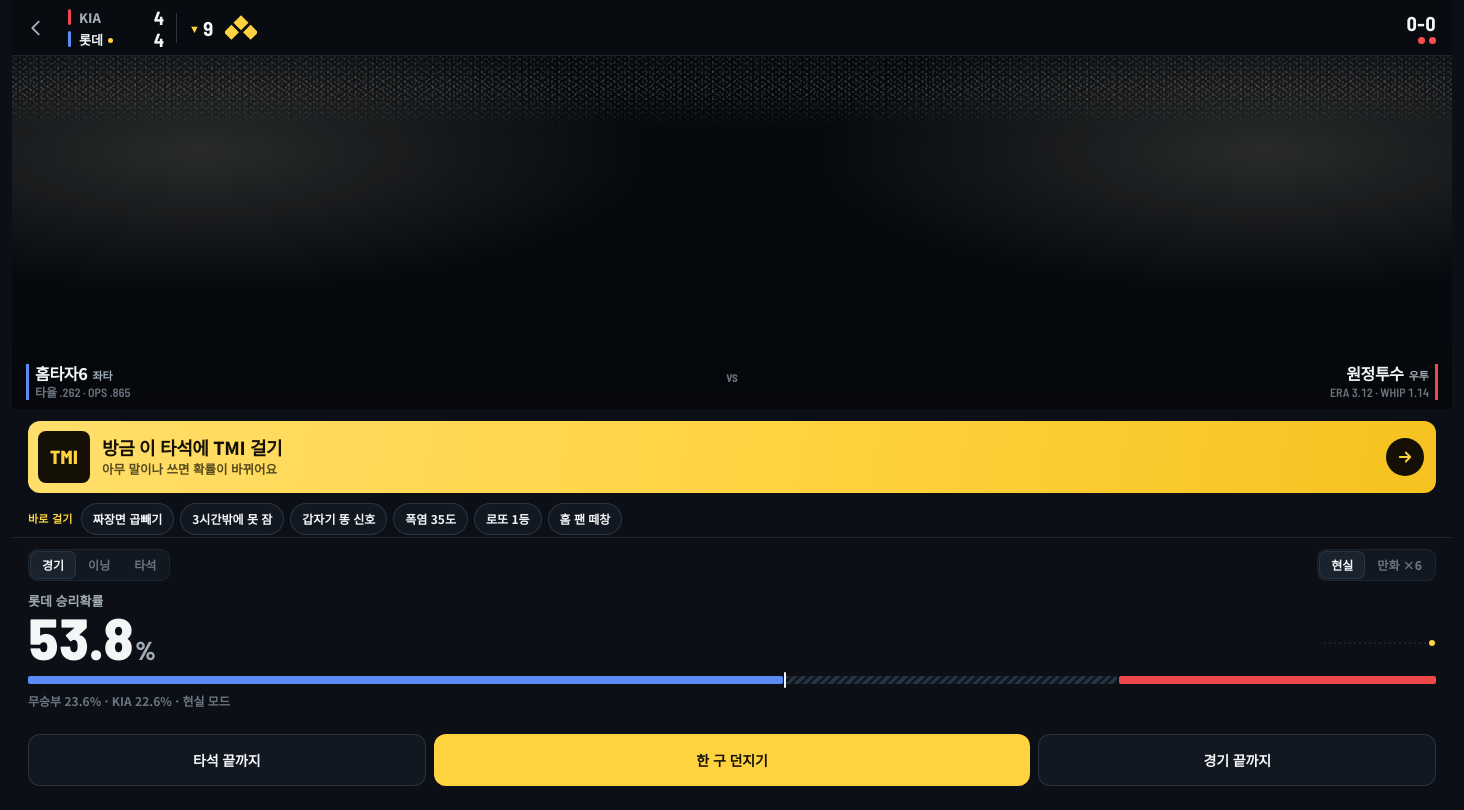
PlayScreen › 바로 걸기 칩을 누르면 시트 없이 TMI가 걸리고, 초대 판이 칩 줄과 노란 "+ TMI 걸기"로 바뀐다
Expected: the element labelled "53.8%" is shown, [28,611,155,664]
Click the button "짜장면 곱빼기".
click(128, 519)  # box [81,503,174,535]
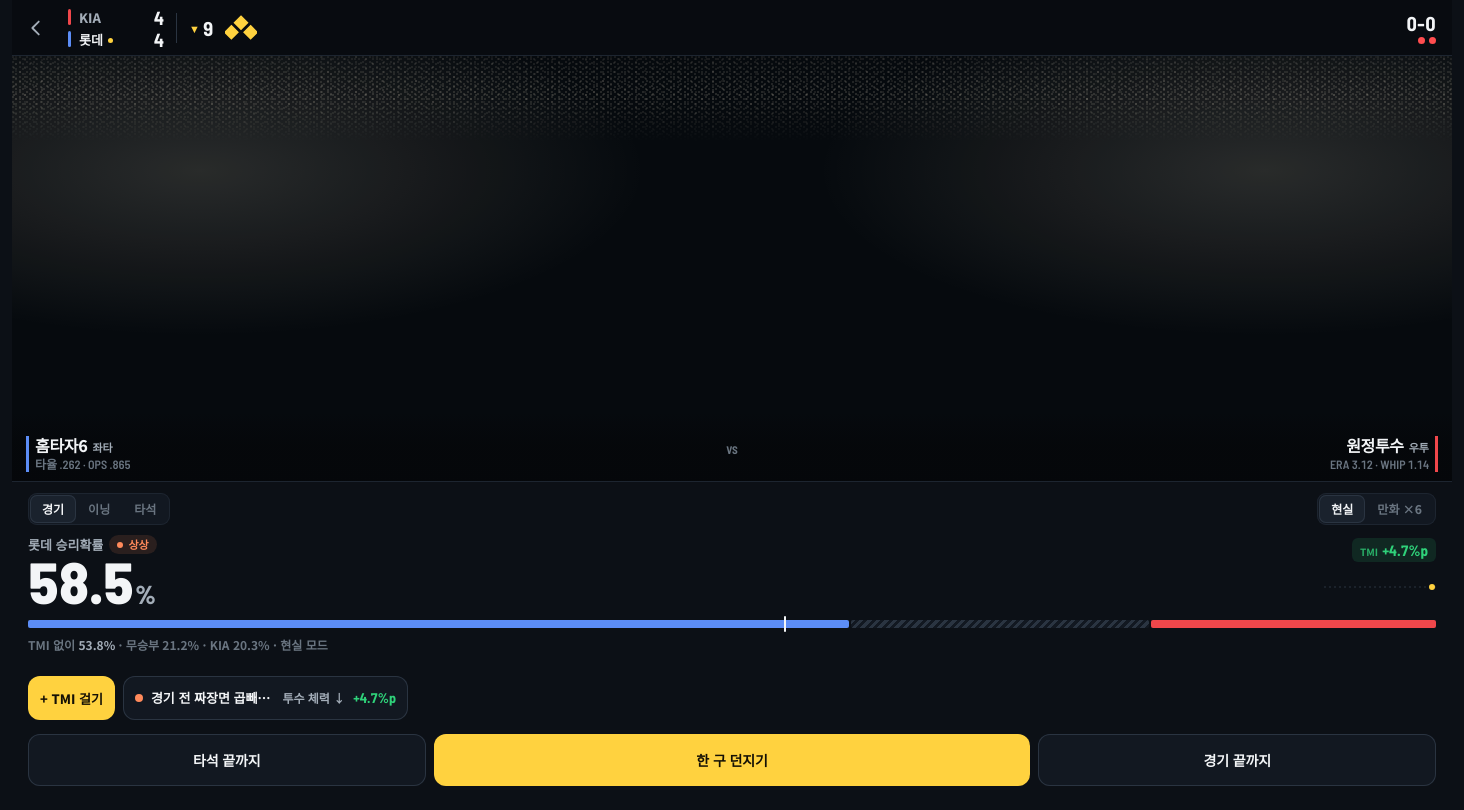
Expected: the button with aria-label "TMI 원정투수가 경기 전 짜장면 곱빼기를 먹었다, 투수 체력 ↓, " is shown, [123,676,408,720]
